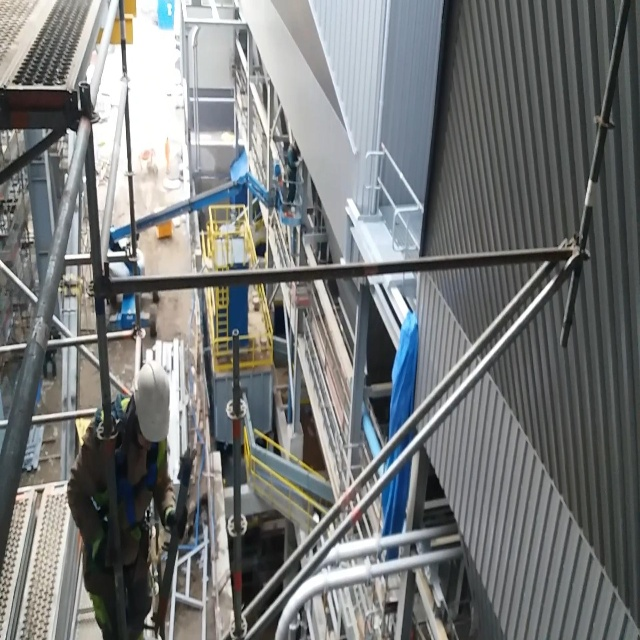Arnes_seguridad: (86, 380, 160, 580)
